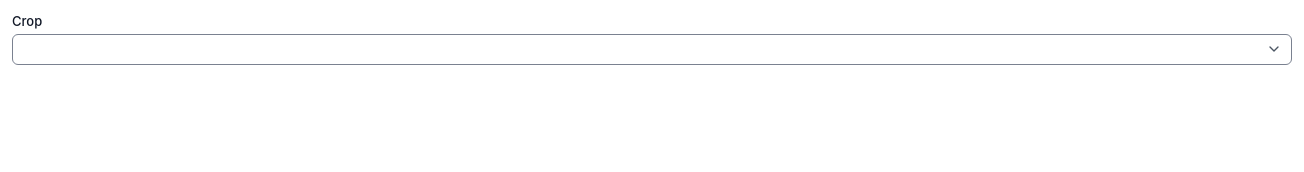
Test: Combobox › says so when nothing matches, politely
The image size is (1304, 172).
Type "zzz" into the dropdown labelled "Crop" at (652, 49), box [12,34,1292,65]
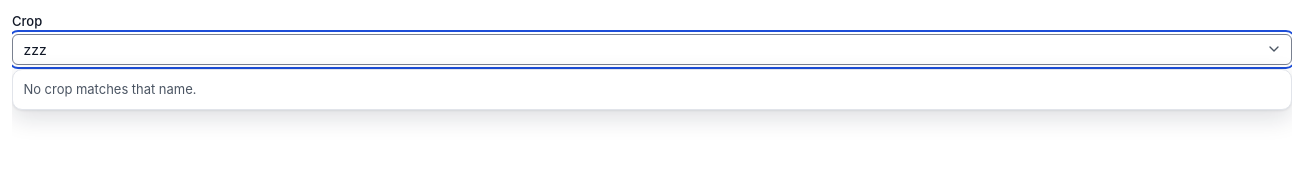
Expected: the message reads "No crop matches that name.", [24,81,196,97]
